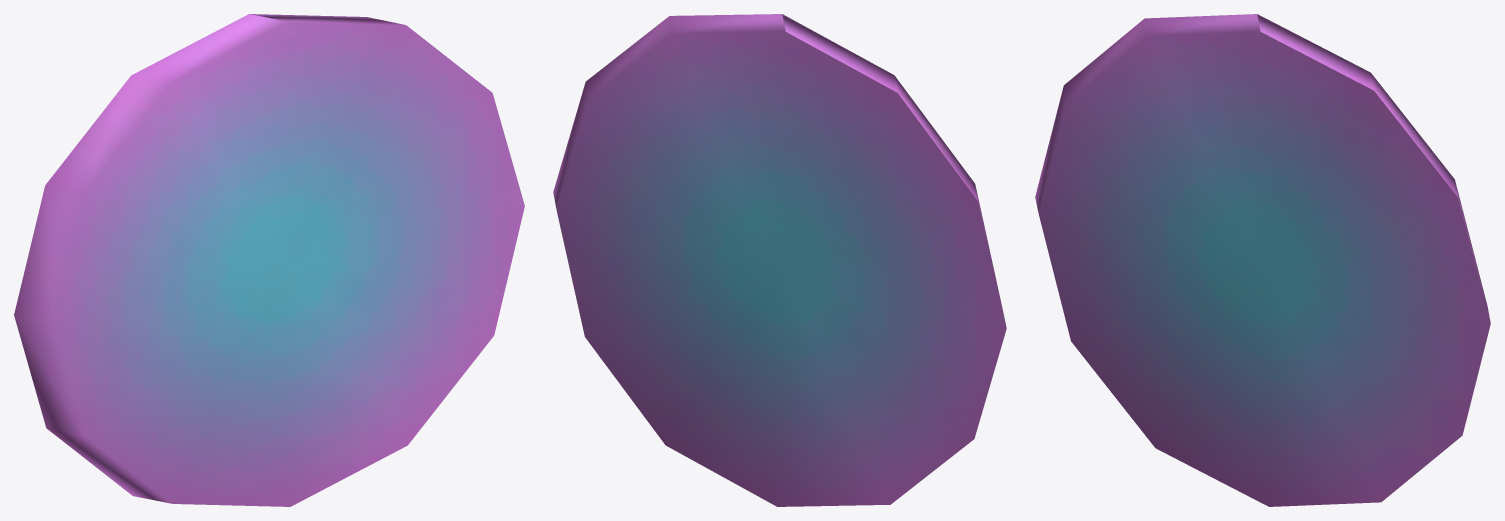
The model's file is save 2.FBX.
3 views of the same model, side by side, from view 1: azimuth 30°, elevation 25°; view 2: azimuth 150°, elevation 25°; view 3: azimuth 330°, elevation 25° (orthographic). The views are drawn at different scales.
Visible parts, largest first — view 1: house1; view 2: house1; view 3: house1.
Part boxes in pixels (box(x1,y1,x2,y2)): house1: box(14, 14, 524, 506); house1: box(553, 14, 1006, 506); house1: box(1035, 14, 1490, 506).
Bounding box in the file's own units: 16.21 × 15.48 × 1.89.
